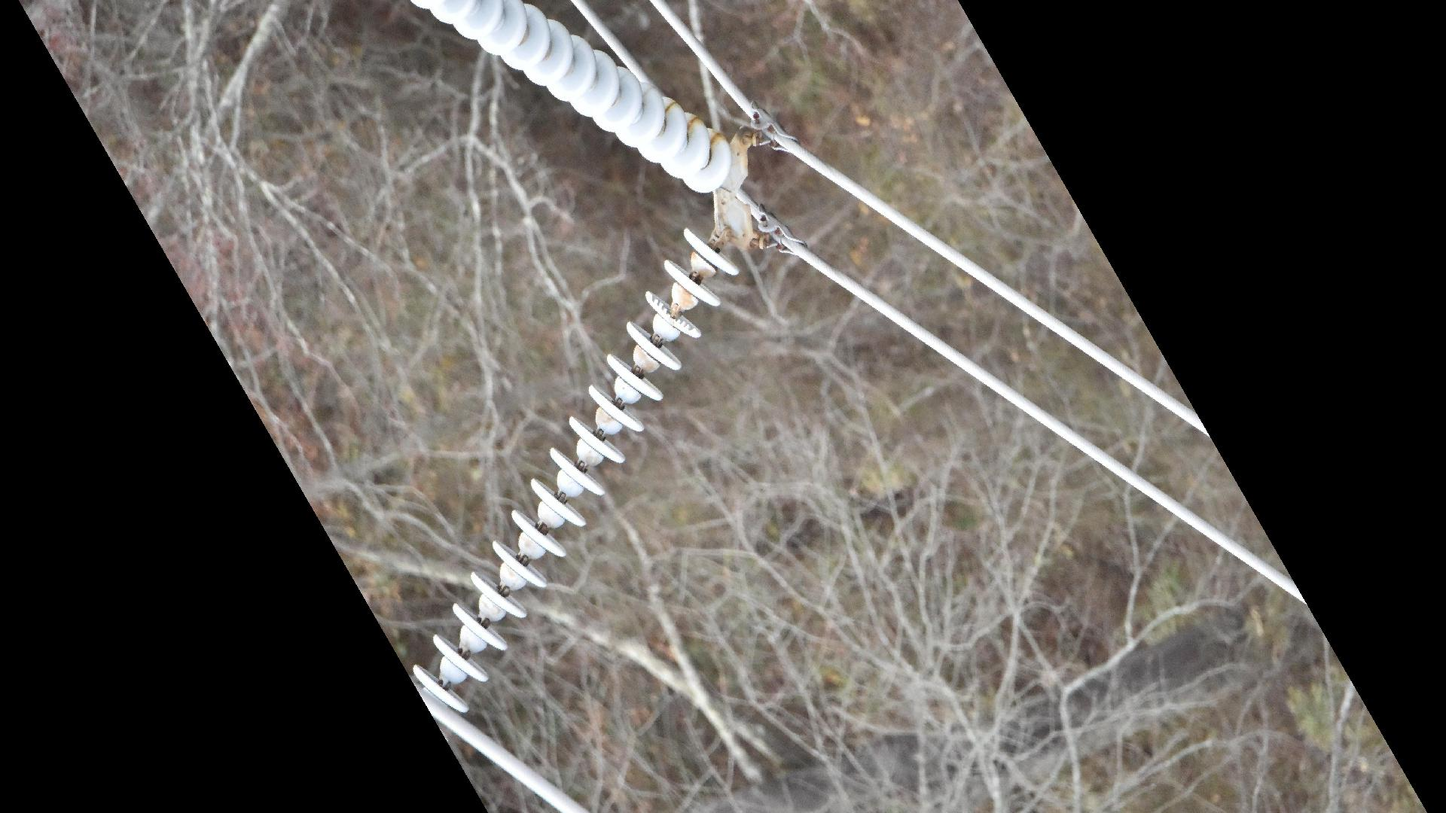insulator: (408, 220, 743, 722), (398, 1, 739, 200)
insulator_breakage: (642, 286, 700, 340)
